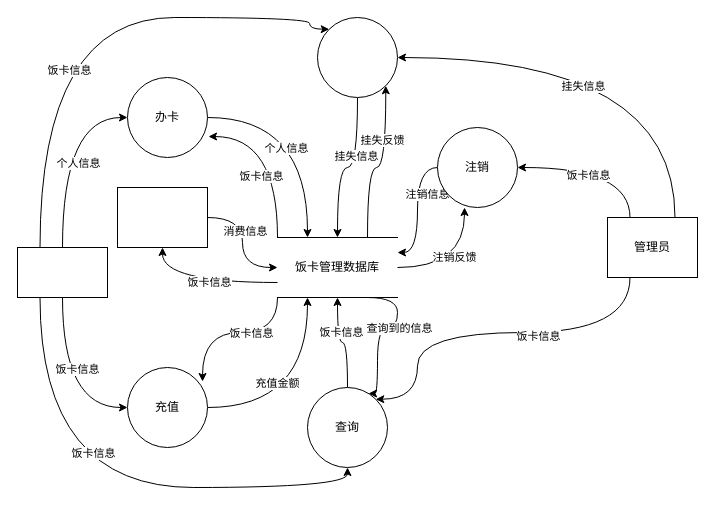
Image size: 715x505. Some labels were removed from this diagram. Here are the shapes that lost their labels. From the top down, the centre of each, then its label:
At pixel 357 57: "挂失".
At pixel 162 217: "刷卡设备".
At pixel 62 272: "学生/教职工".
